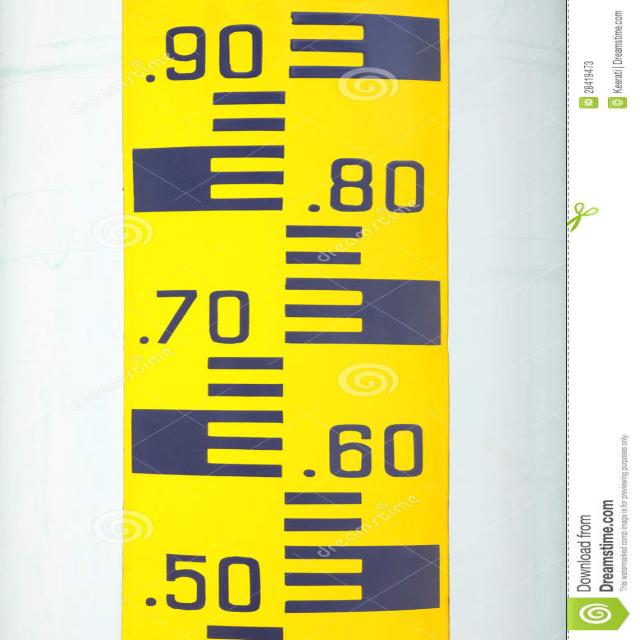ruler: (79, 0, 503, 636)
value: (132, 544, 281, 620), (127, 18, 284, 90), (294, 412, 446, 486), (297, 150, 448, 223), (130, 276, 271, 352)
